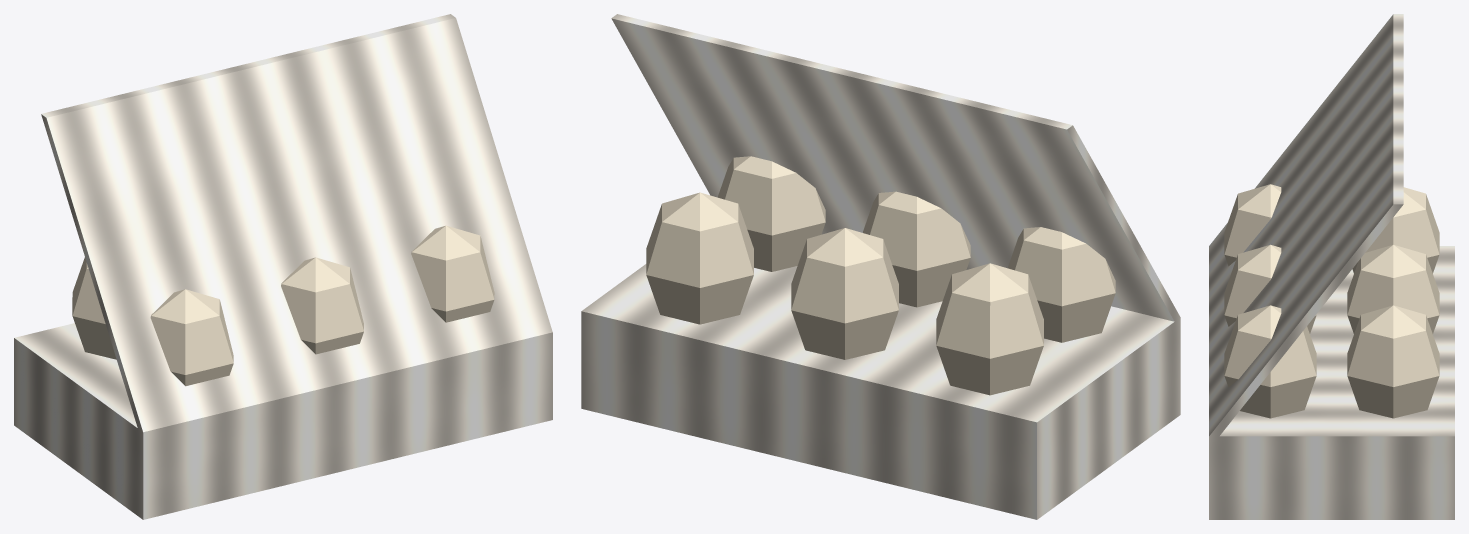
Rendered from uova_paese.obj.
The picture shows the model from 3 angles, left to right: view 1: azimuth 30°, elevation 25°; view 2: azimuth 150°, elevation 25°; view 3: azimuth 270°, elevation 25°; orthographic projection. The views are drawn at different scales.
Visible parts, largest first — view 1: uova_paese; view 2: uova_paese; view 3: uova_paese.
Part boxes in pixels (x1,y1,x2,y2): uova_paese: (14, 14, 552, 519); uova_paese: (581, 14, 1180, 519); uova_paese: (1209, 14, 1454, 519).
Bounding box in the file's own units: 0.22 × 0.17 × 0.12.
3 materials, 2 textured.
